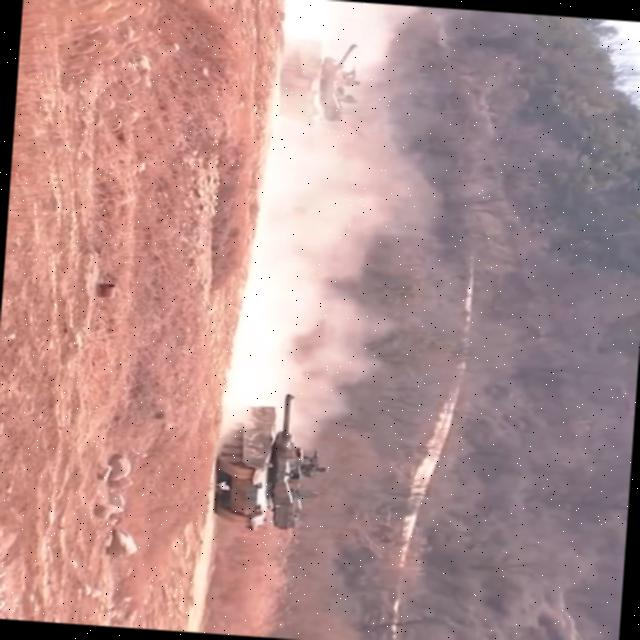korea tank: (205, 388, 332, 536)
